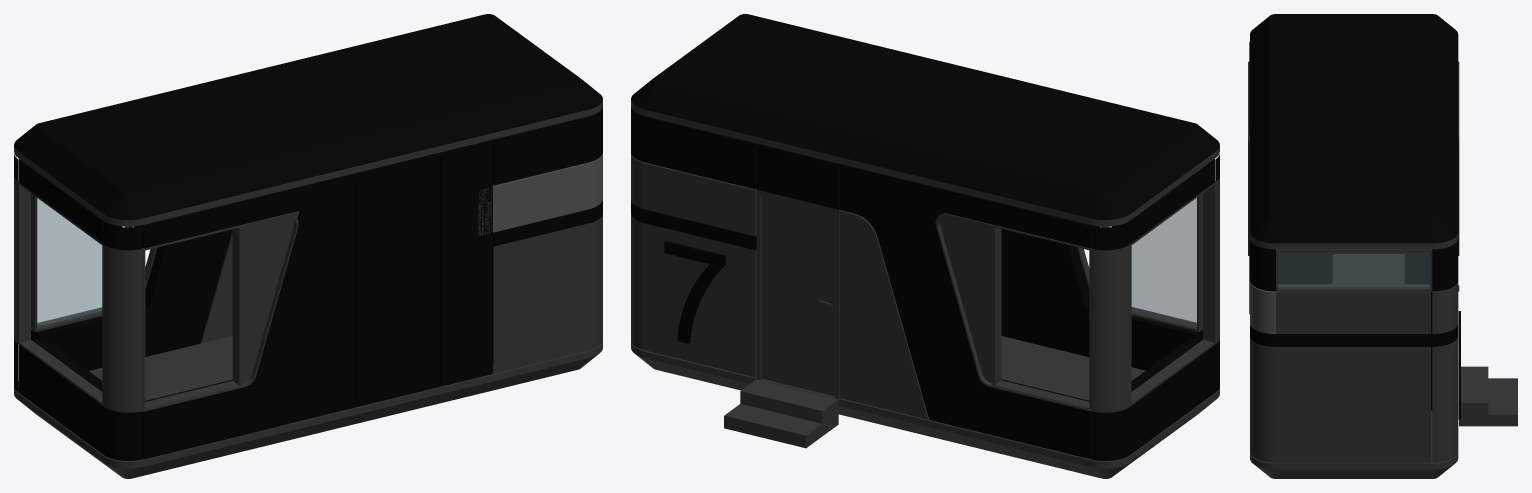
File: pod-model-y.glb
The picture shows the model from 3 angles, left to right: view 1: azimuth 30°, elevation 25°; view 2: azimuth 150°, elevation 25°; view 3: azimuth 270°, elevation 25°; orthographic projection. The views are drawn at different scales.
Size of the model in its own units: 6.1 by 3.38 by 3.16.
